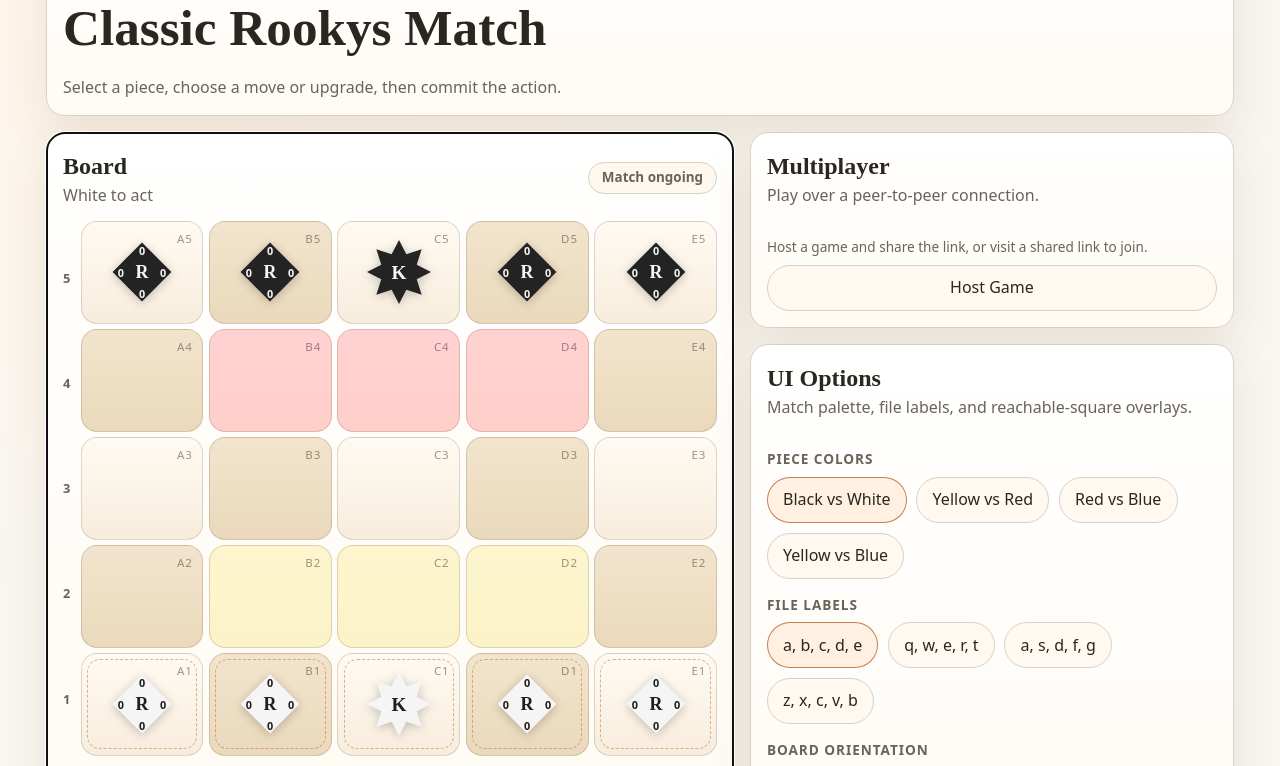
Scenario: App › allows selecting a rooky, choosing upgrade, and logging the action
The image size is (1280, 766).
(page scrolled)
Click the cell named "Square a1, white rooky" at (142, 704), box [81,653,204,756]
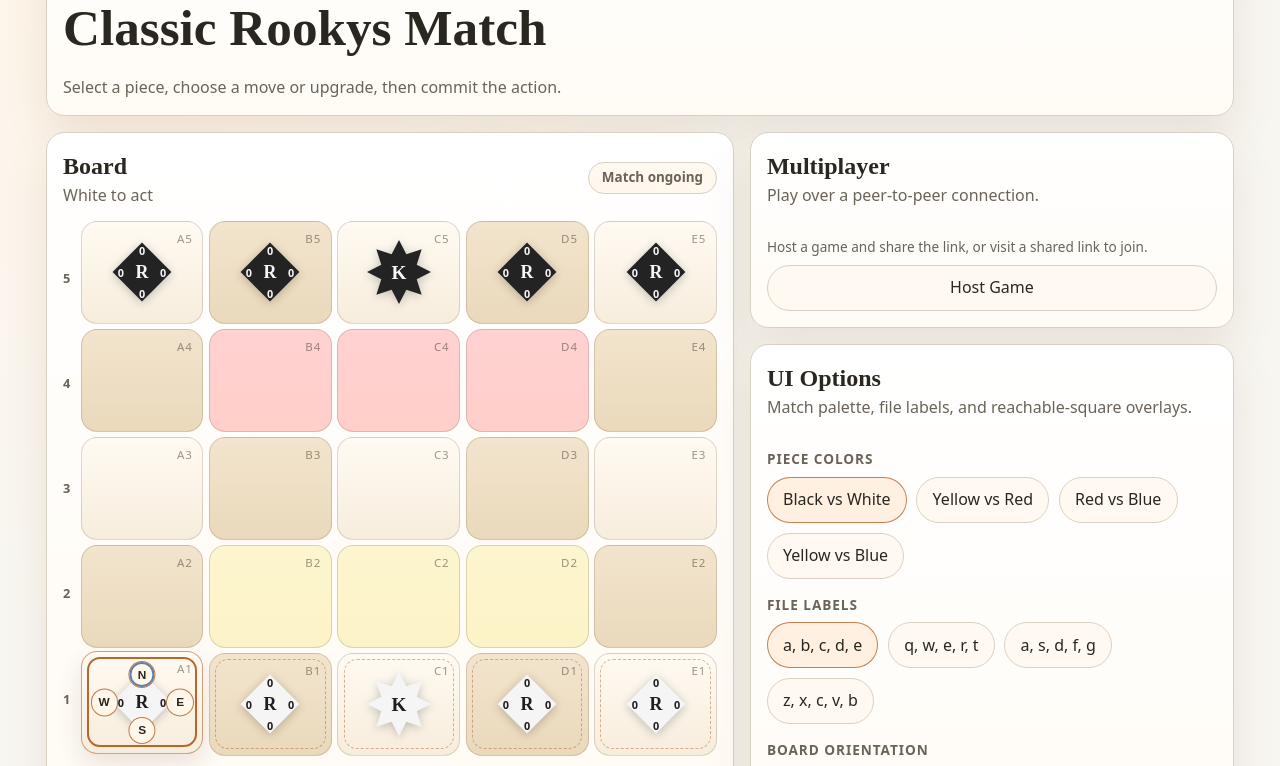
Click the button named "Upgrade North" at (142, 675), box [128,661,156,688]
(page scrolled)
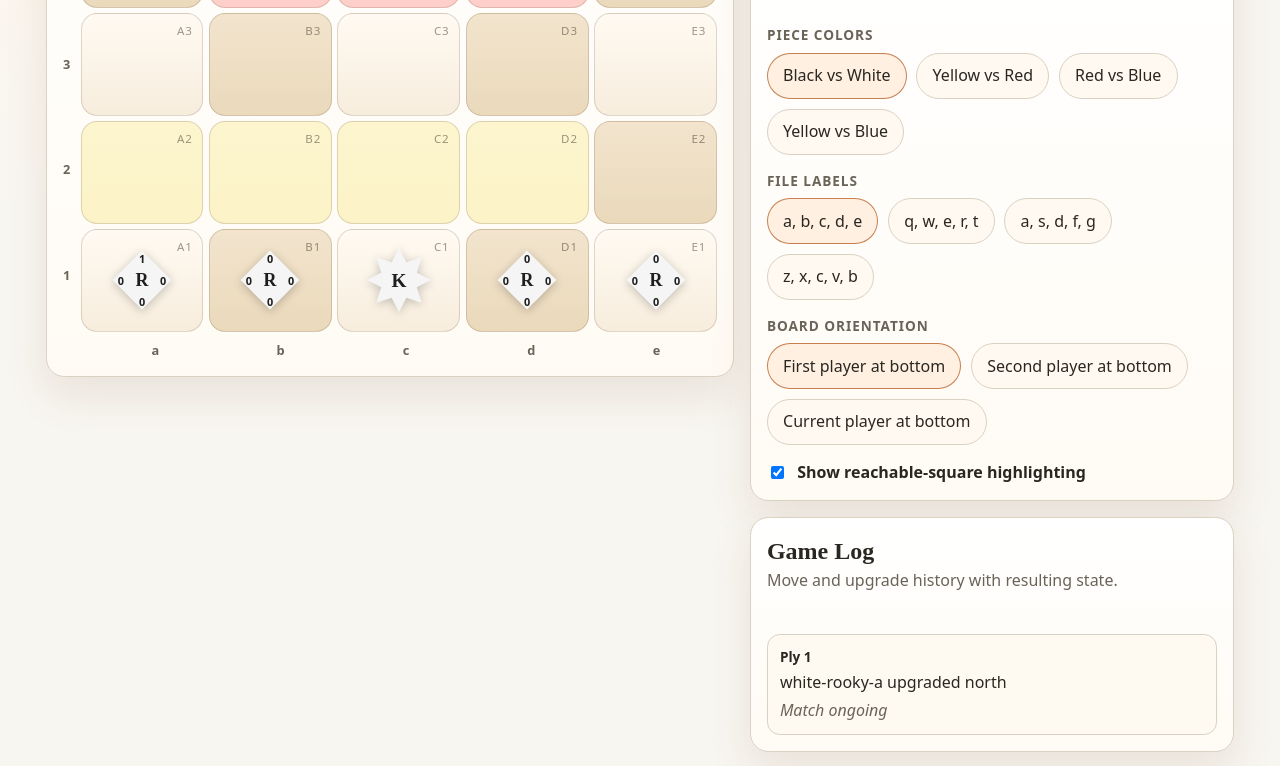
Check: the text "white-rooky-a upgraded north" is shown, box [780,671,1007,693]
